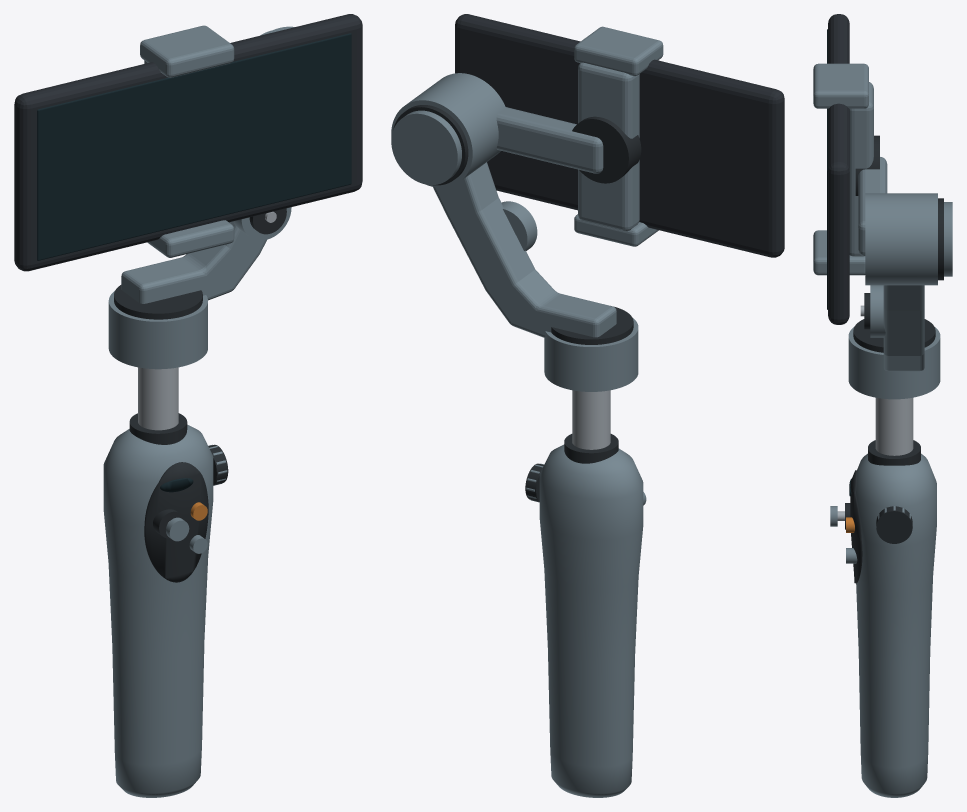
3 renders of one model, left to right at view 1: azimuth 30°, elevation 25°; view 2: azimuth 150°, elevation 25°; view 3: azimuth 270°, elevation 25°, orthographic. The views are drawn at different scales.
Visible parts, largest first — view 1: Blank phone glass face, Tapered handgrip with open bottom recess, Original blank landscape phone frame, Offset bent gimbal arm, Lower pan pivot motor, Projected upper control surround, Opposing phone clamp jaw 1, Exposed telescoping stem, Opposing phone clamp jaw -1, Lower pivot top seam cap, Extension stem socket; view 2: Original blank landscape phone frame, Tapered handgrip with open bottom recess, Offset bent gimbal arm, Clamp rear spine, Upper phone roll motor, Lower pan pivot motor, Generic rear motor to clamp bridge, Upper motor rear cap, Opposing phone clamp jaw 1, Generic clamp rear seating disk, Exposed telescoping stem, Opposing phone clamp jaw -1 (+4 smaller); view 3: Tapered handgrip with open bottom recess, Upper phone roll motor, Original blank landscape phone frame, Lower pan pivot motor, Offset bent gimbal arm, Opposing phone clamp jaw 1, Clamp rear spine, Exposed telescoping stem, Generic rear motor to clamp bridge, Side rotary control dial, Opposing phone clamp jaw -1, Lower pivot top seam cap (+6 smaller).
Boxes of the visible parts, x1,y1,x2,y2 form: Blank phone glass face: (37, 33, 351, 260); Tapered handgrip with open bottom recess: (103, 424, 213, 797); Original blank landscape phone frame: (14, 14, 362, 271); Offset bent gimbal arm: (121, 221, 266, 303); Lower pan pivot motor: (108, 291, 207, 369); Projected upper control surround: (144, 462, 208, 582); Opposing phone clamp jaw 1: (140, 25, 234, 77); Exposed telescoping stem: (138, 367, 178, 430); Opposing phone clamp jaw -1: (147, 220, 234, 257); Lower pivot top seam cap: (114, 285, 202, 319); Extension stem socket: (129, 413, 187, 444); Original blank landscape phone frame: (455, 14, 784, 257); Tapered handgrip with open bottom recess: (539, 444, 643, 797); Offset bent gimbal arm: (433, 162, 616, 337); Clamp rear spine: (578, 62, 639, 231); Upper phone roll motor: (391, 73, 505, 187); Lower pan pivot motor: (544, 318, 638, 391); Generic rear motor to clamp bridge: (496, 107, 603, 173); Upper motor rear cap: (391, 110, 461, 185); Opposing phone clamp jaw 1: (574, 26, 663, 76); Generic clamp rear seating disk: (572, 116, 641, 183); Exposed telescoping stem: (572, 390, 610, 449); Opposing phone clamp jaw -1: (574, 214, 658, 246); Tapered handgrip with open bottom recess: (855, 453, 936, 797); Upper phone roll motor: (865, 193, 937, 285); Original blank landscape phone frame: (828, 14, 849, 324); Lower pan pivot motor: (848, 327, 940, 399); Offset bent gimbal arm: (883, 285, 924, 371); Opposing phone clamp jaw 1: (813, 63, 868, 108); Clamp rear spine: (849, 82, 873, 256); Exposed telescoping stem: (875, 397, 913, 455); Generic rear motor to clamp bridge: (858, 157, 887, 256); Side rotary control dial: (876, 506, 912, 543); Opposing phone clamp jaw -1: (813, 230, 865, 275); Lower pivot top seam cap: (853, 319, 935, 352).
Size of the model in its own units: 15.9 by 32.2 by 5.75.
